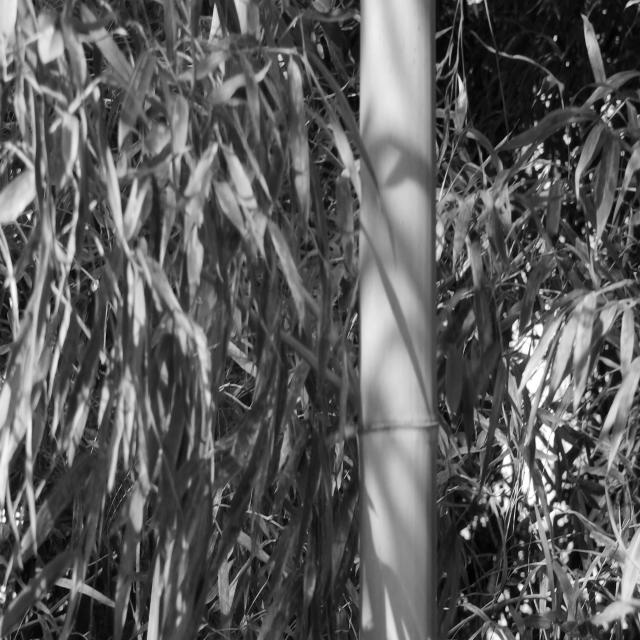Bamboo-shoots: (358, 0, 437, 640)
